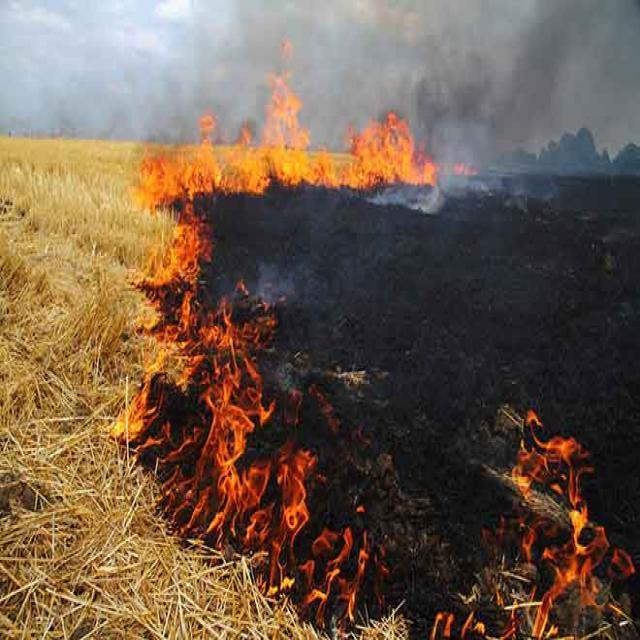Fire: (114, 350, 391, 628), (418, 408, 640, 639), (130, 62, 448, 192), (135, 192, 281, 352)
Smoke: (358, 0, 639, 209), (134, 0, 376, 159), (243, 254, 311, 312)
